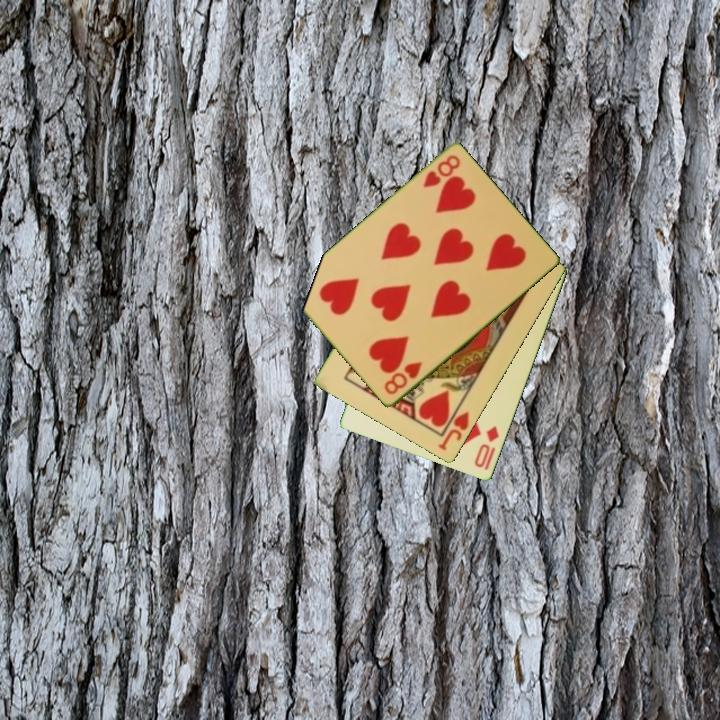10d: (471, 422, 502, 471)
8h: (380, 358, 425, 398), (420, 152, 463, 191)
Jh: (434, 408, 472, 454)
